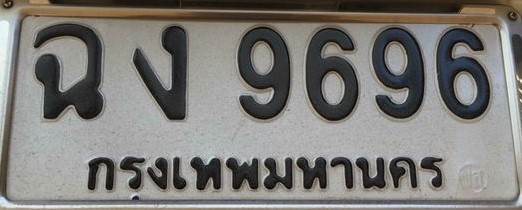txt05: (129, 23, 191, 123)
txt07: (31, 22, 108, 124)
